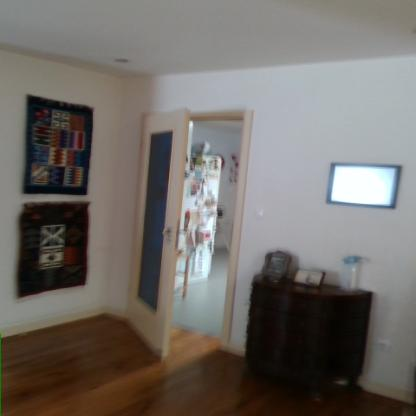semi: (121, 97, 259, 379)
